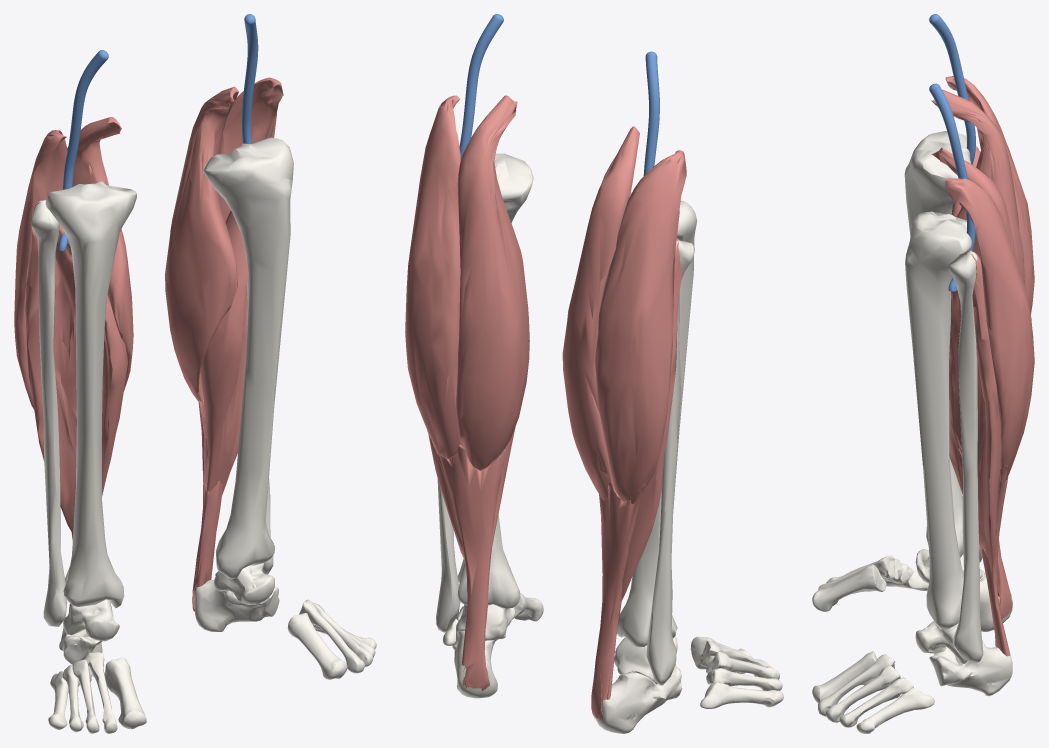
File: perna-pe.glb
3 views of the same model, side by side, from view 1: azimuth 30°, elevation 25°; view 2: azimuth 150°, elevation 25°; view 3: azimuth 270°, elevation 25° (orthographic). The views are drawn at different scales.
Parts seen in each view (by area): view 1: tibia, gastrocnemio, soleo, metatarsos, fibula, calcaneo, talus, veia-poplitea, tendao-calcaneo; view 2: gastrocnemio, tendao-calcaneo, tibia, fibula, metatarsos, calcaneo, soleo, veia-poplitea, talus; view 3: tibia, gastrocnemio, metatarsos, fibula, soleo, calcaneo, veia-poplitea, tendao-calcaneo, talus.
Boxes of the visible parts, x1,y1,x2,y2 form: tibia: (45, 137, 293, 608); gastrocnemio: (14, 77, 283, 409); soleo: (25, 202, 248, 533); metatarsos: (48, 599, 376, 733); fibula: (31, 200, 273, 626); calcaneo: (59, 580, 279, 664); talus: (63, 563, 274, 641); veia-poplitea: (58, 14, 258, 250); tendao-calcaneo: (68, 400, 222, 612); gastrocnemio: (405, 95, 686, 504); tendao-calcaneo: (427, 430, 646, 720); tibia: (457, 153, 697, 646); fibula: (436, 240, 694, 685); metatarsos: (443, 593, 783, 708); calcaneo: (452, 619, 682, 733); soleo: (428, 238, 682, 601); veia-poplitea: (459, 14, 659, 175); talus: (456, 604, 677, 684); tibia: (904, 131, 971, 629); gastrocnemio: (931, 76, 1034, 480); metatarsos: (812, 555, 934, 733); fibula: (948, 145, 983, 662); soleo: (949, 147, 1001, 572); calcaneo: (929, 569, 1012, 696); veia-poplitea: (929, 14, 975, 291); tendao-calcaneo: (981, 464, 1012, 656); talus: (915, 549, 983, 663).
Bounding box in the file's own units: 0.3047 × 0.566 × 0.1864.
